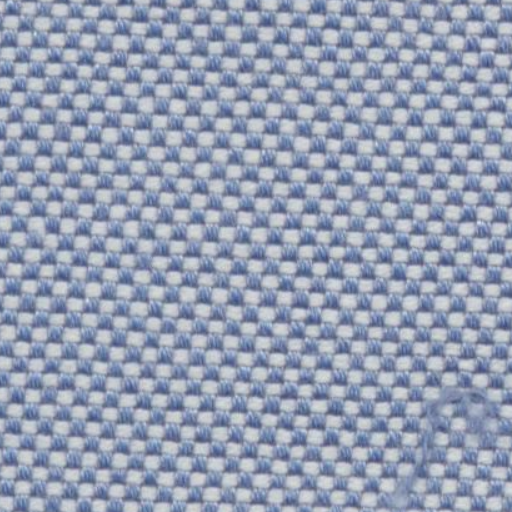DuanSha: (362, 366, 500, 508)
